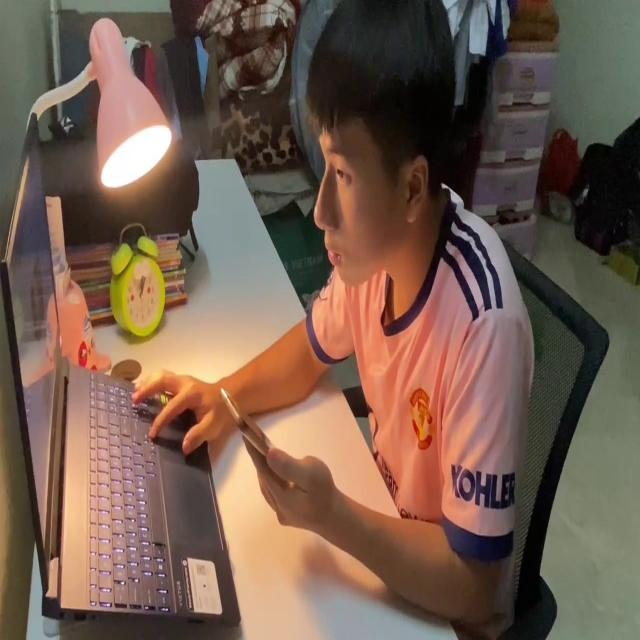laptop: (1, 110, 242, 632)
phone: (218, 382, 296, 472)
student: (129, 0, 533, 640)
